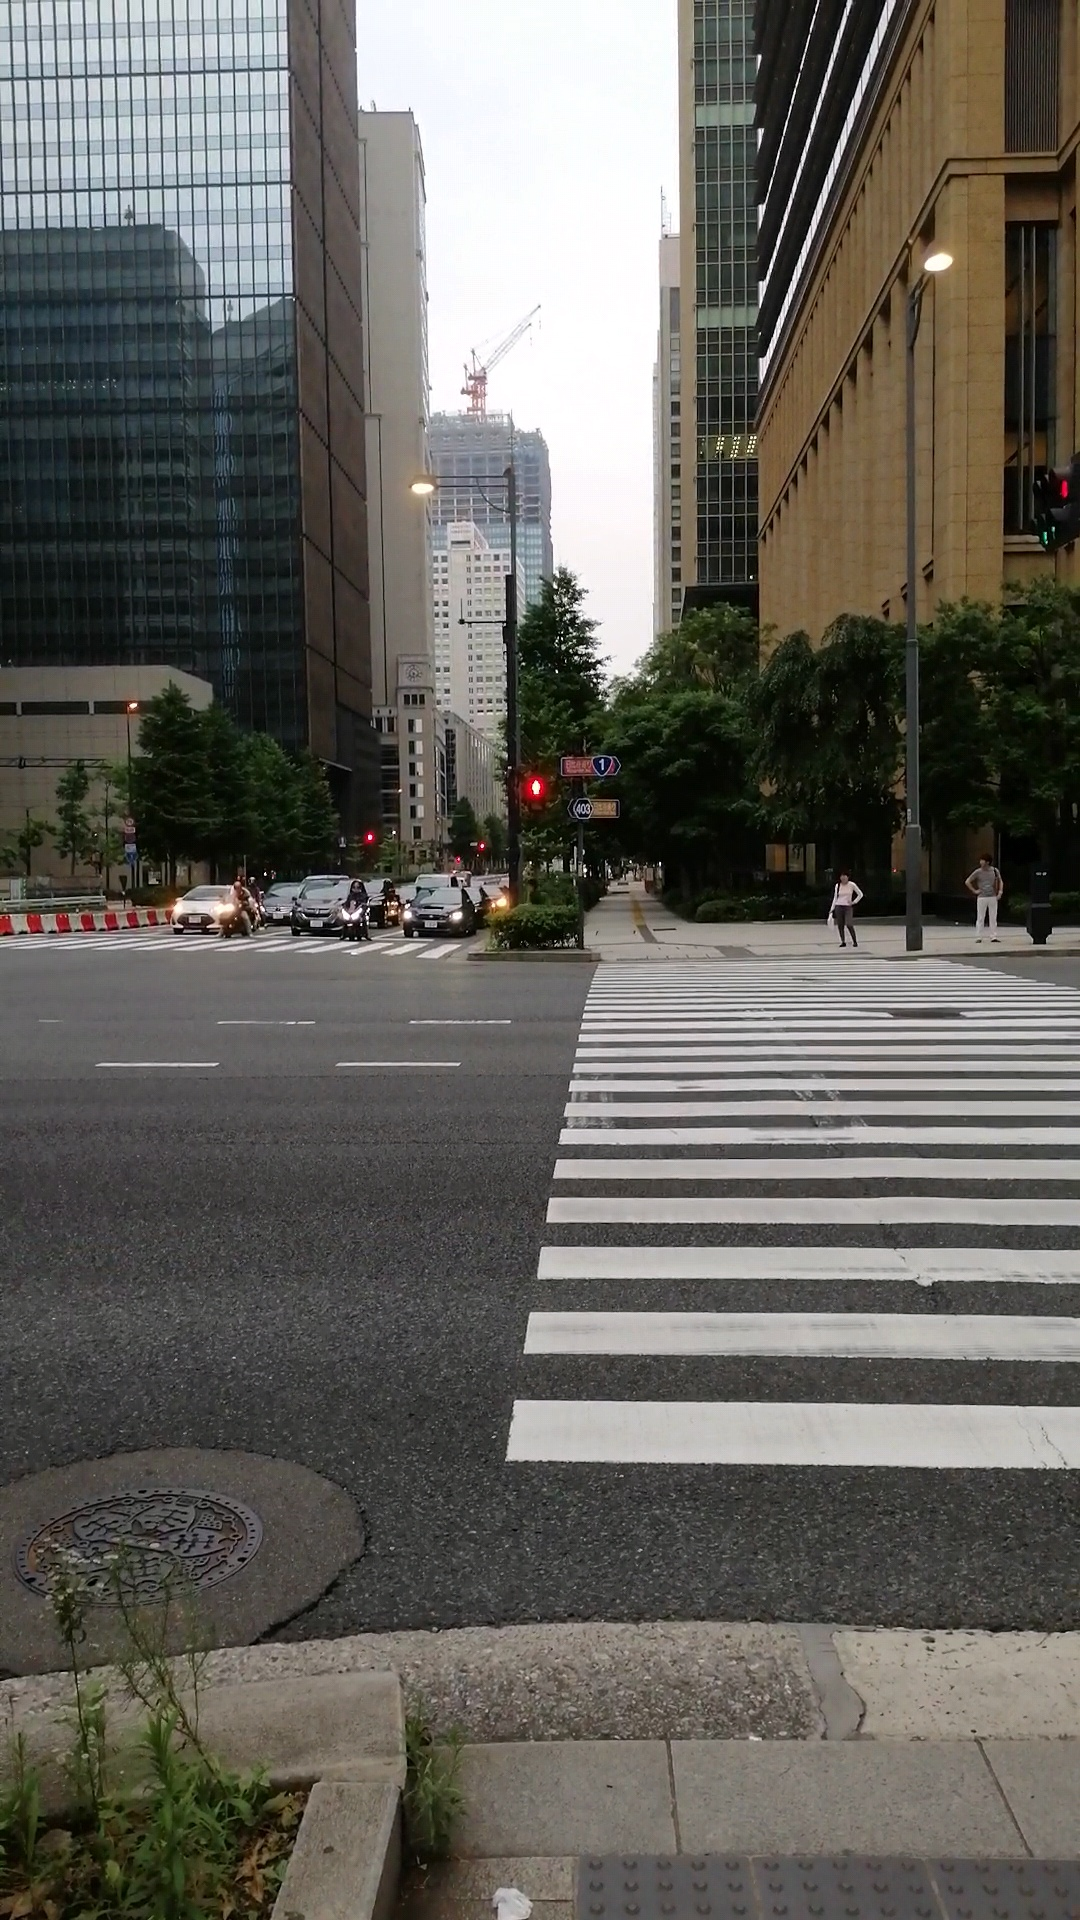red: (522, 773, 546, 818)
